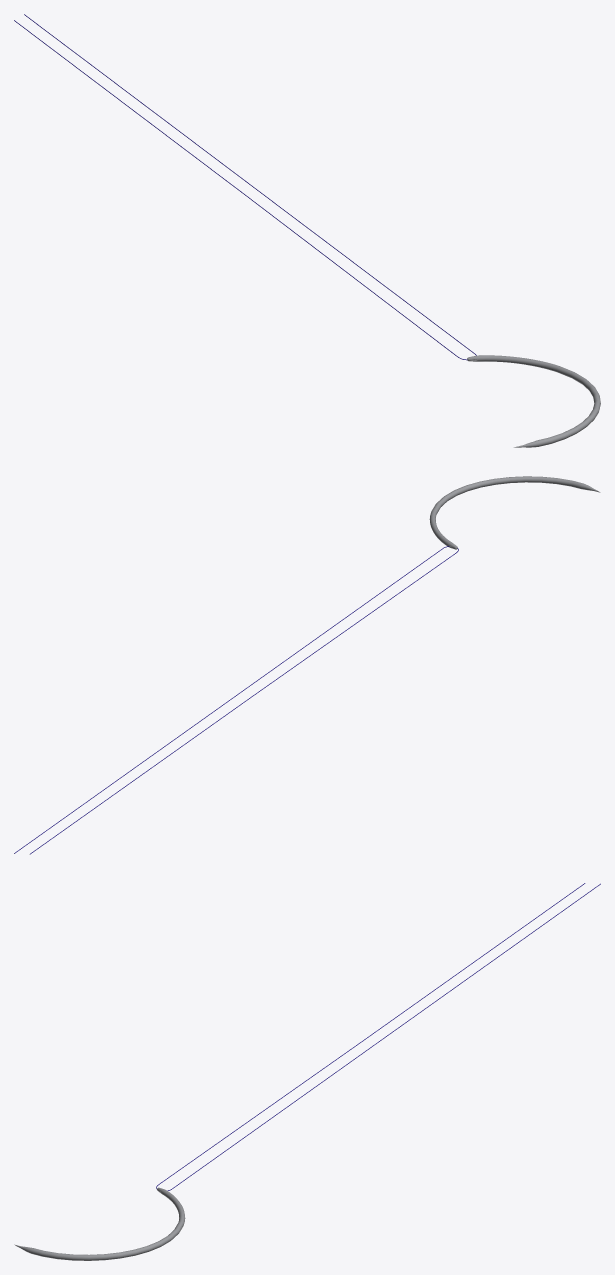
The model's file is model_Chitieulienkim.fbx.
3 renders of one model, top to bottom at view 1: azimuth 30°, elevation 25°; view 2: azimuth 150°, elevation 25°; view 3: azimuth 330°, elevation 25°, orthographic. The views are drawn at different scales.
Parts seen in each view (by area): view 1: Chitieulienkim_1, Chitieulienkim_2; view 2: Chitieulienkim_1, Chitieulienkim_2; view 3: Chitieulienkim_1, Chitieulienkim_2.
Boxes of the visible parts, box(x1,y1,x2,y2) form: Chitieulienkim_1: box(467, 355, 600, 447); Chitieulienkim_2: box(14, 14, 476, 360); Chitieulienkim_1: box(429, 476, 600, 549); Chitieulienkim_2: box(14, 546, 458, 854); Chitieulienkim_1: box(14, 1187, 185, 1260); Chitieulienkim_2: box(156, 883, 600, 1190).
Bounding box in the file's own units: 42.19 × 1.98 × 337.
Materials: 1 (1 with a texture image).
